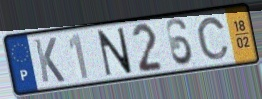1: (68, 32, 90, 81)
2: (131, 22, 168, 76)
6: (165, 17, 195, 69)
C: (195, 16, 231, 62)
K: (32, 36, 67, 84)
N: (96, 25, 134, 78)
